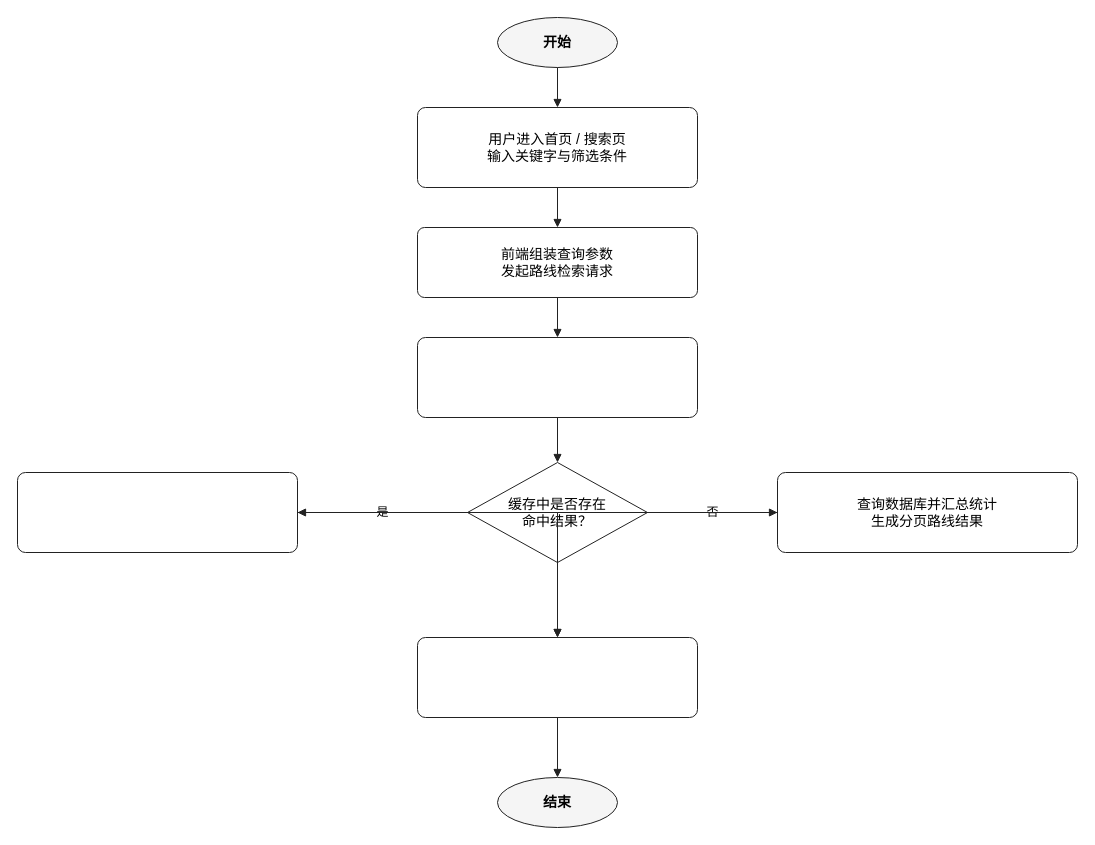
Image size: 1095x845. Some labels were removed from this diagram. Each missing label, with the box of its shape:
后端解析条件并构造查询 关联标签、难度、距离等维度: (416, 336, 698, 418)
封装列表数据并返回前端 刷新筛选结果与分页状态: (416, 636, 698, 718)
直接读取缓存结果 返回路线卡片列表: (16, 472, 298, 552)
